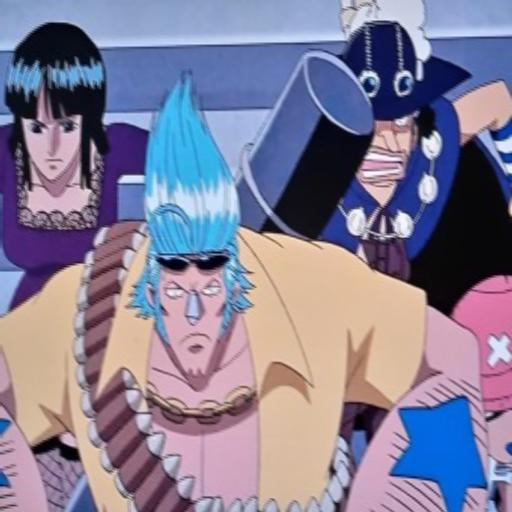NicoRobin: (0, 17, 110, 191)
Usopp: (338, 20, 439, 199)
